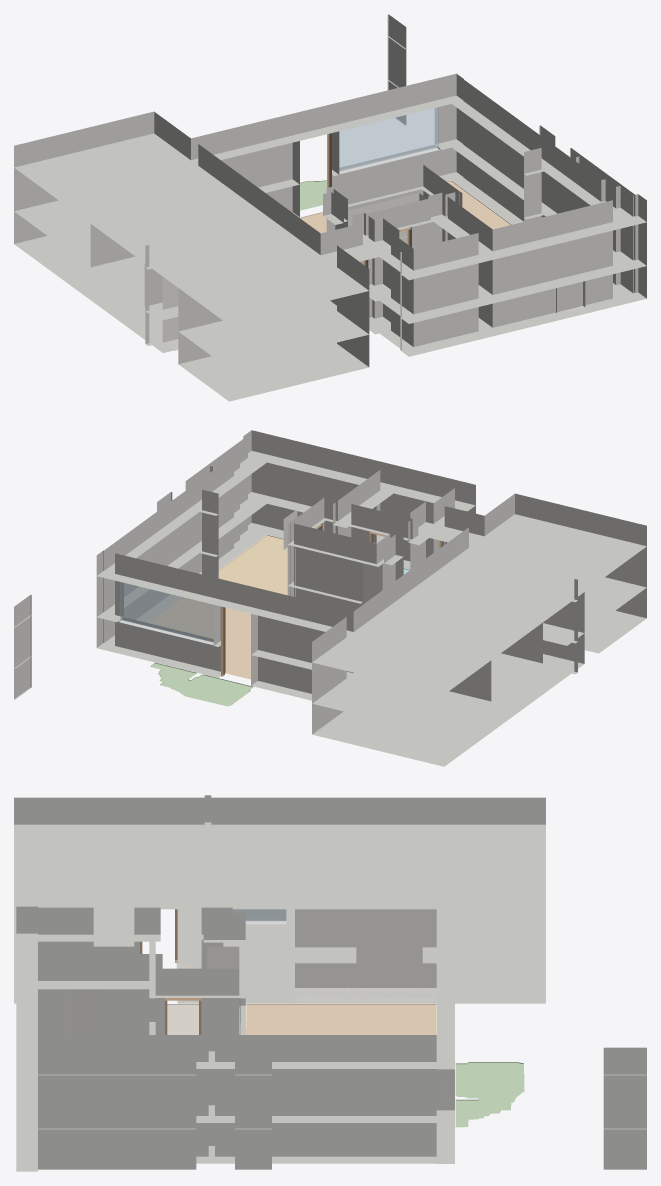
3 renders of one model, top to bottom at view 1: azimuth 30°, elevation 25°; view 2: azimuth 150°, elevation 25°; view 3: azimuth 270°, elevation 25°, orthographic. The views are drawn at different scales.
Parts seen in each view (by area): view 1: walls, window_2, floor_0_Living_Room, furniture_2_closet, furniture_1_closet, floor_5_Outdoor; view 2: walls, window_2, floor_0_Living_Room, floor_2_Kitchen, floor_5_Outdoor, furniture_1_closet; view 3: walls, furniture_0_closet, floor_0_Living_Room, floor_5_Outdoor, furniture_3_closet, floor_1_Entry, furniture_1_closet, window_6.
Part boxes in pixels (<box>): walls: <box>14,14,646,401</box>; window_2: <box>339,107,438,171</box>; floor_0_Living_Room: <box>299,180,511,233</box>; furniture_2_closet: <box>162,277,178,350</box>; furniture_1_closet: <box>348,193,426,243</box>; floor_5_Outdoor: <box>300,180,326,210</box>; walls: <box>14,430,646,766</box>; window_2: <box>120,582,215,642</box>; floor_0_Living_Room: <box>147,597,250,679</box>; floor_2_Kitchen: <box>218,535,287,595</box>; floor_5_Outdoor: <box>150,662,253,706</box>; furniture_1_closet: <box>295,548,382,602</box>; walls: <box>14,795,646,1171</box>; furniture_0_closet: <box>295,909,436,1001</box>; floor_0_Living_Room: <box>245,1004,436,1034</box>; floor_5_Outdoor: <box>455,1062,524,1127</box>; furniture_3_closet: <box>68,989,103,1034</box>; floor_1_Entry: <box>167,1004,245,1034</box>; furniture_1_closet: <box>207,946,240,1034</box>; window_6: <box>232,909,286,921</box>.
Bounding box in the file's own units: 12.14 × 2.72 × 12.74.
